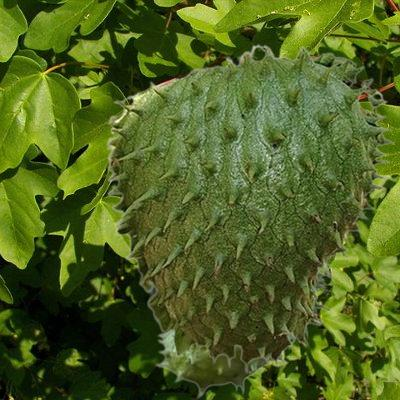guyabano: (106, 43, 394, 373), (154, 235, 348, 398)
